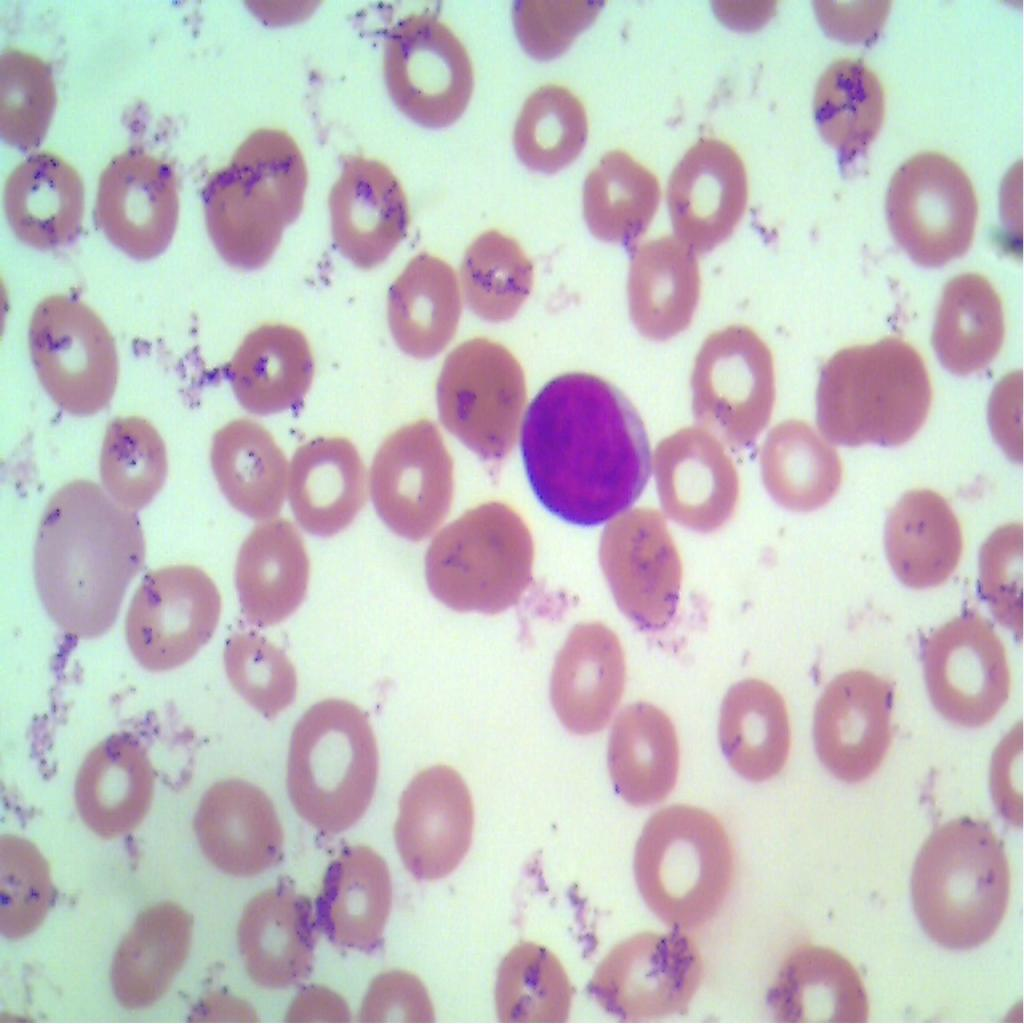Eritrosit: (33, 465, 151, 639), (418, 484, 536, 628), (904, 806, 1018, 952), (54, 719, 172, 850), (378, 5, 482, 142), (18, 282, 120, 420), (881, 138, 988, 268), (914, 608, 1023, 731), (594, 503, 692, 638), (188, 764, 294, 887), (806, 665, 912, 787), (634, 802, 739, 925), (686, 310, 779, 448), (426, 330, 526, 458), (382, 752, 478, 884), (638, 417, 746, 534), (540, 612, 630, 749), (284, 698, 378, 828), (121, 558, 223, 675), (98, 895, 202, 1008), (710, 668, 802, 794), (315, 831, 409, 954), (882, 481, 972, 608), (368, 415, 458, 541), (658, 131, 754, 249), (226, 308, 322, 425), (375, 241, 464, 364), (600, 696, 690, 817), (918, 255, 1008, 374), (746, 421, 849, 524), (286, 422, 370, 548), (93, 152, 190, 260), (0, 152, 93, 264), (618, 231, 704, 352), (322, 154, 412, 268), (598, 925, 702, 1023), (853, 329, 935, 450), (458, 212, 548, 322), (230, 514, 316, 628), (223, 885, 315, 991), (200, 164, 286, 274), (218, 624, 304, 731), (578, 141, 664, 248), (204, 414, 289, 521), (504, 85, 594, 186), (804, 54, 886, 154), (782, 930, 870, 1023), (230, 118, 306, 224), (493, 935, 578, 1023), (811, 338, 879, 448), (0, 42, 63, 148), (98, 417, 168, 509)
Limfoblast: (518, 370, 658, 530)
